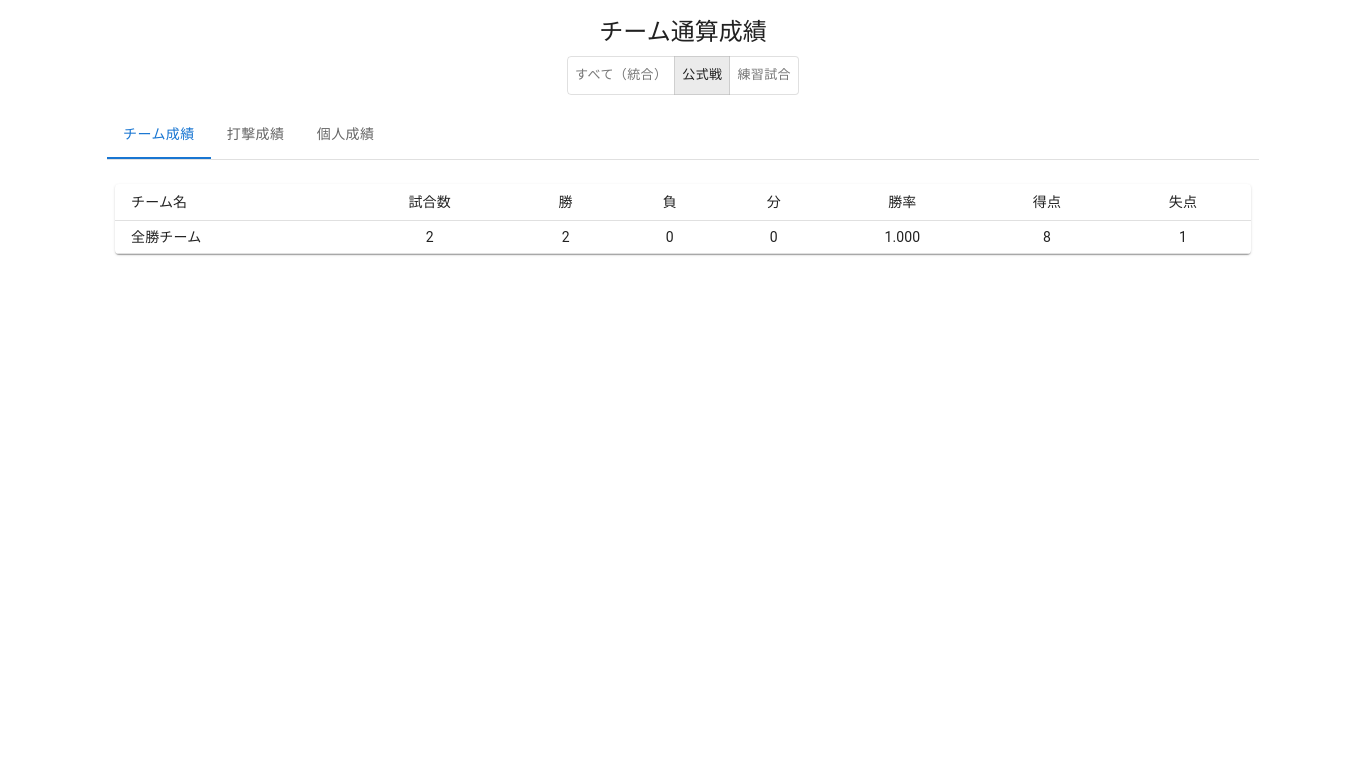
it: 登録試合数と控えの説明がデスクトップ／モバイルで一致する (mobile=true)
Expected: the column heading "全勝チーム" is shown, [115, 221, 346, 254]
Click the tab "個人成績". click: [346, 135]
box: [301, 111, 391, 159]
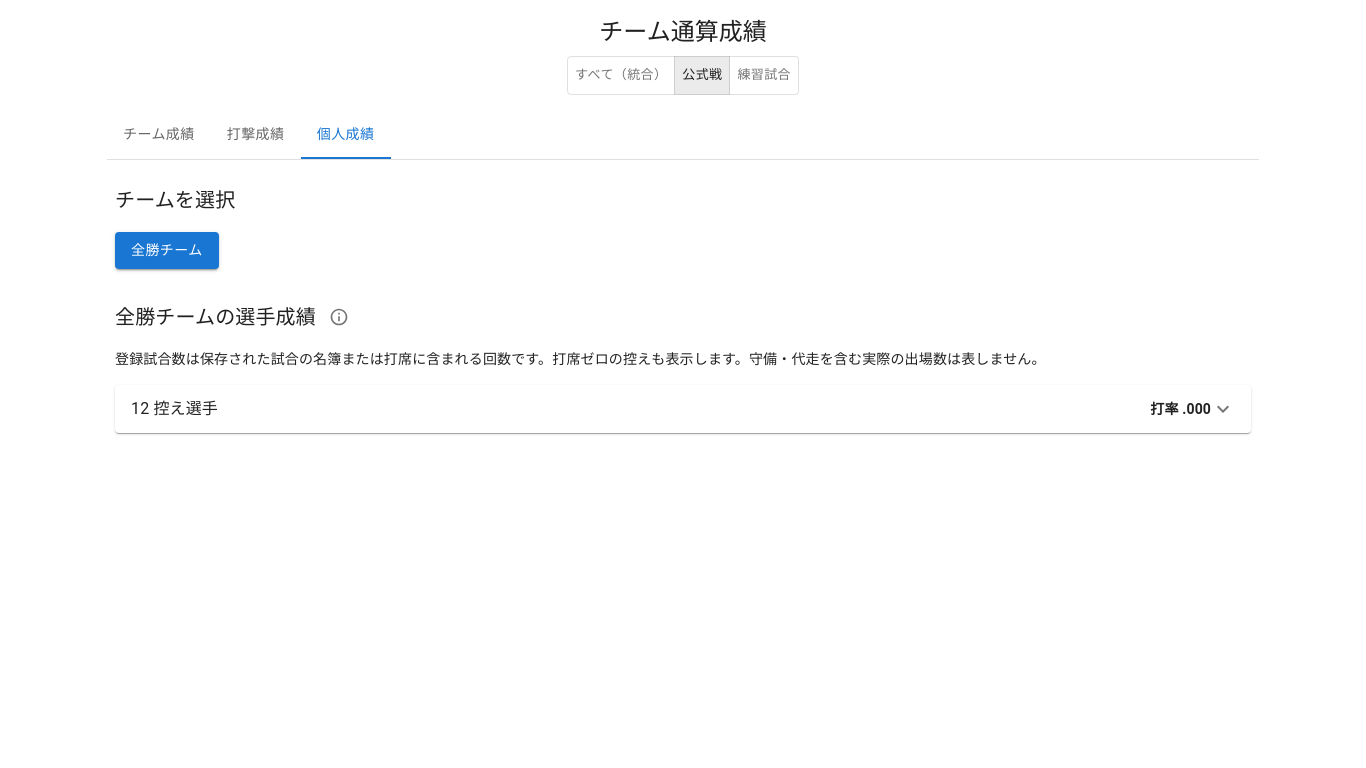
Expected: the text "打席ゼロの控えも表示します" is shown, [115, 351, 1046, 367]
Click the button "12 控え選手 打率 .000". click: [186, 408]
box: [115, 385, 1251, 433]
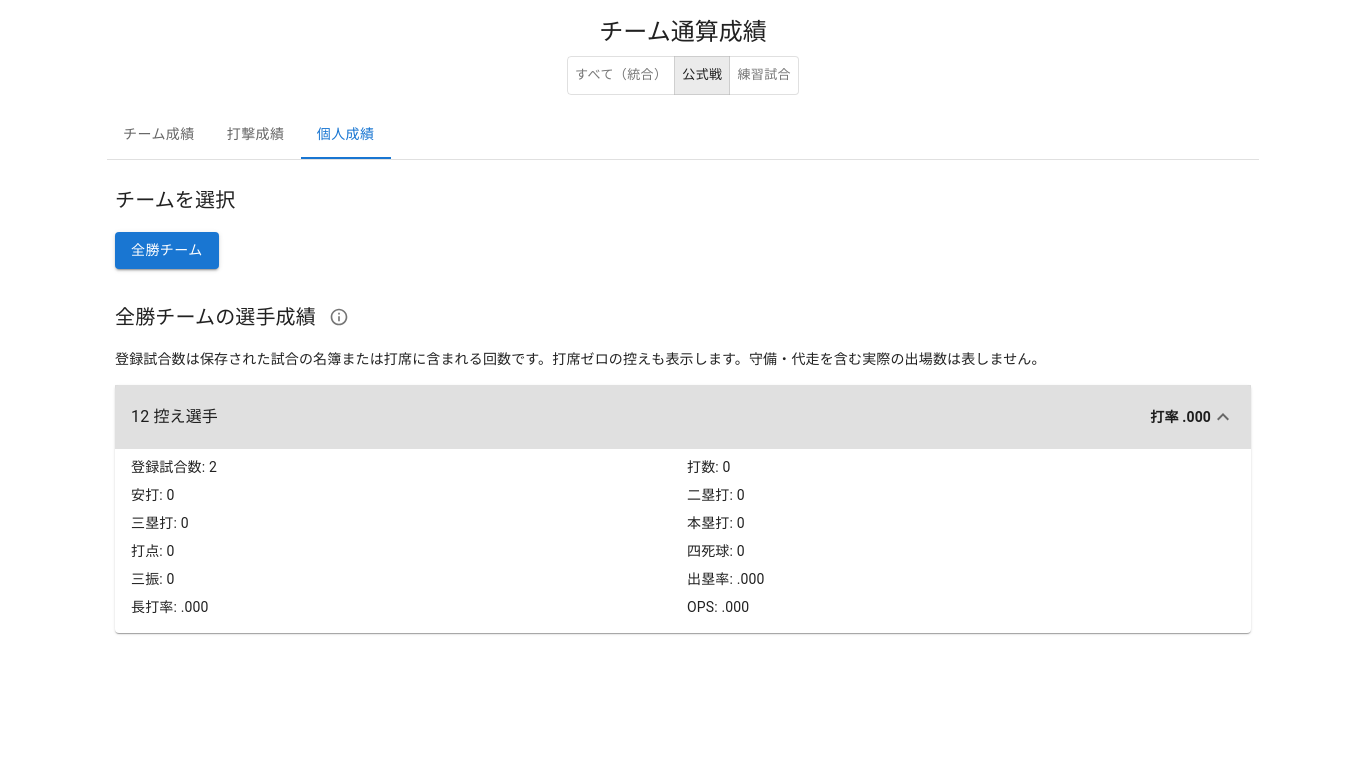
Expected: the text "登録試合数: 2" is shown, [131, 459, 217, 475]
